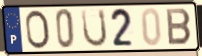0: (140, 7, 164, 48), (54, 8, 77, 50)
2: (110, 5, 137, 50)
B: (165, 8, 193, 47)
O: (24, 9, 52, 51)
U: (80, 8, 109, 49)
